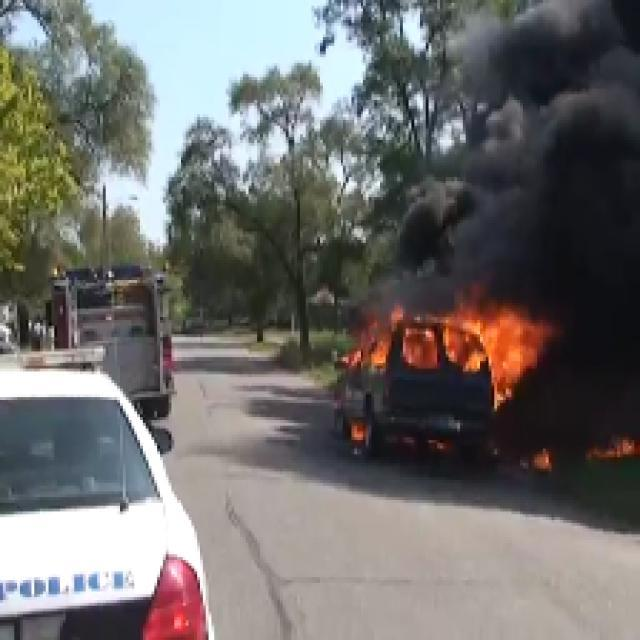Fire: (447, 314, 545, 384)
Smoke: (483, 23, 629, 296)
